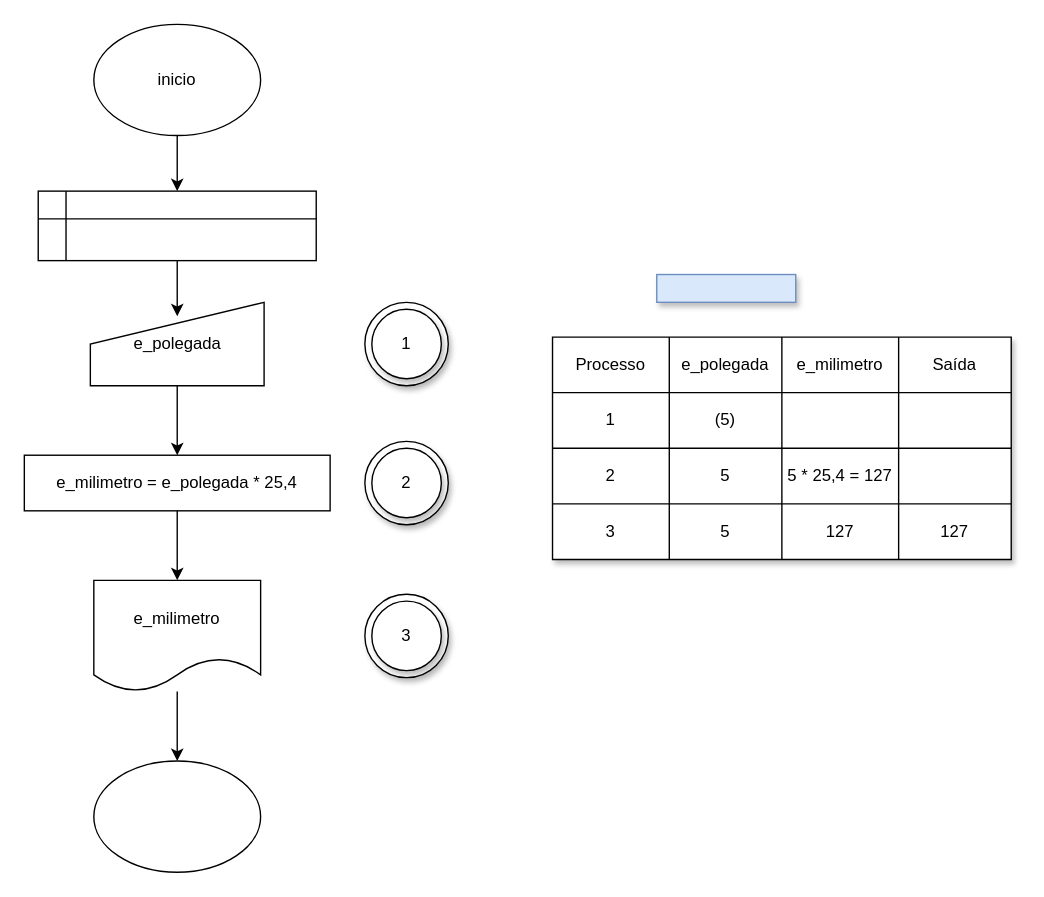
Some shapes in this 1044 by 897 pixel diagram are drawn without their labels. Each missing label, with the centre of its shape:
"e_polegada, e_milimetro" belongs at pixel 176 225.
"fim" belongs at pixel 176 816.
"Teste de Mesa" belongs at pixel 727 290.
